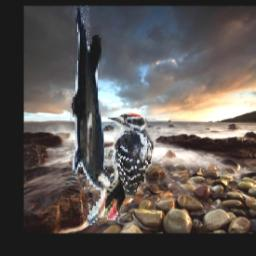Woodpecker: (70, 6, 124, 227), (104, 113, 155, 212)
